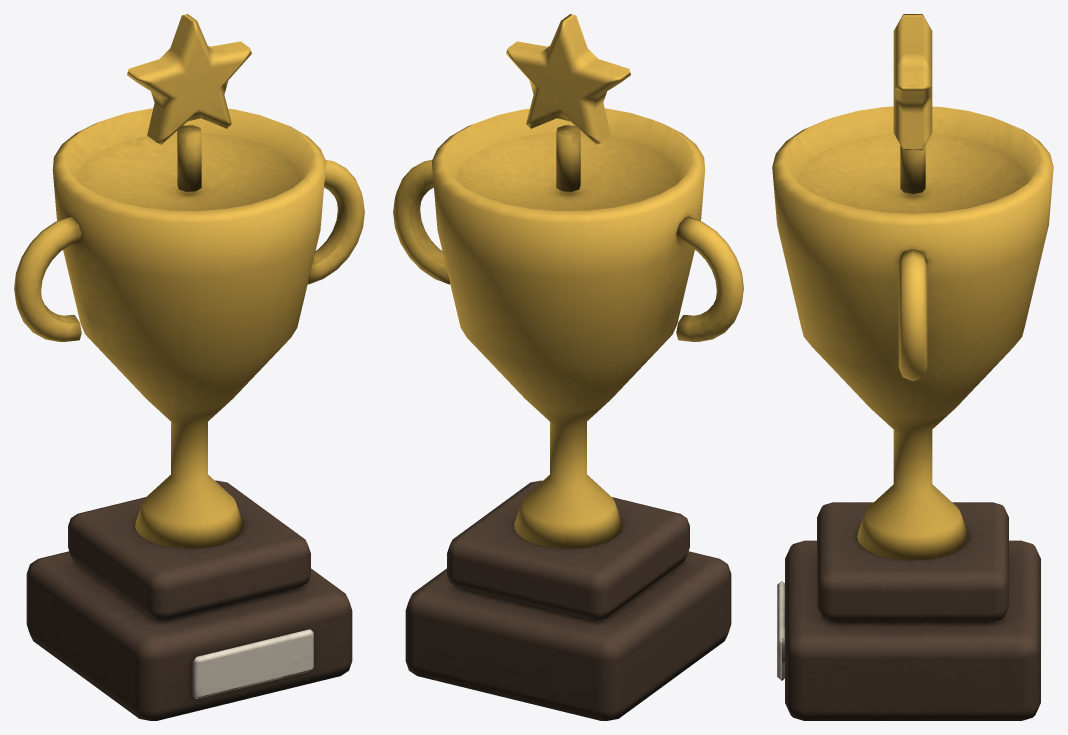
Rendered from trophy_gold.glb.
The picture shows the model from 3 angles, left to right: view 1: azimuth 30°, elevation 25°; view 2: azimuth 150°, elevation 25°; view 3: azimuth 270°, elevation 25°; orthographic projection. The views are drawn at different scales.
Visible parts, largest first — view 1: trophy_gold; view 2: trophy_gold; view 3: trophy_gold.
Boxes of the visible parts, <box> form: trophy_gold: <box>14,14,364,720</box>; trophy_gold: <box>393,14,743,720</box>; trophy_gold: <box>772,14,1053,720</box>.
Size of the model in its own units: 0.258 by 0.4544 by 0.176.
3 materials, 3 textured.
